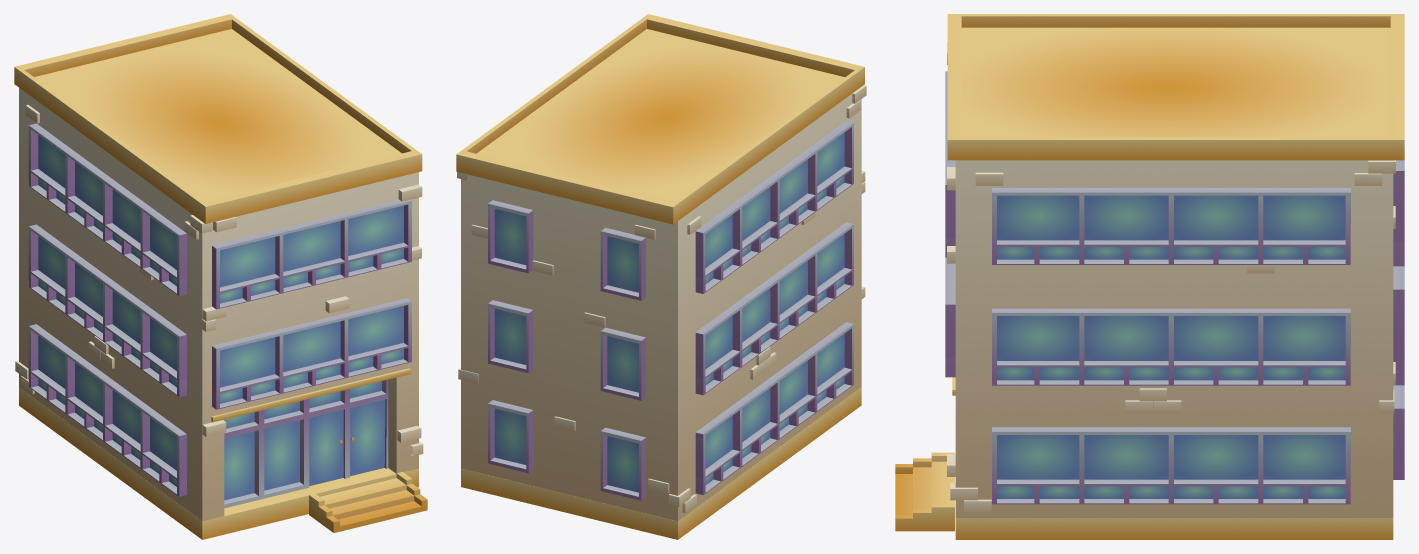
File: SM_3F_R_Windowed_01.fbx
3 renders of one model, left to right at view 1: azimuth 30°, elevation 25°; view 2: azimuth 150°, elevation 25°; view 3: azimuth 270°, elevation 25°, orthographic. The views are drawn at different scales.
Visible parts, largest first — view 1: SM_3F_R_Windowed_01; view 2: SM_3F_R_Windowed_01; view 3: SM_3F_R_Windowed_01.
Part boxes in pixels (x1,y1,x2,y2): SM_3F_R_Windowed_01: (14,14,427,539); SM_3F_R_Windowed_01: (456,14,866,539); SM_3F_R_Windowed_01: (895,14,1404,539).
Bounding box in the file's own units: 7.96 × 12.7 × 11.02.
